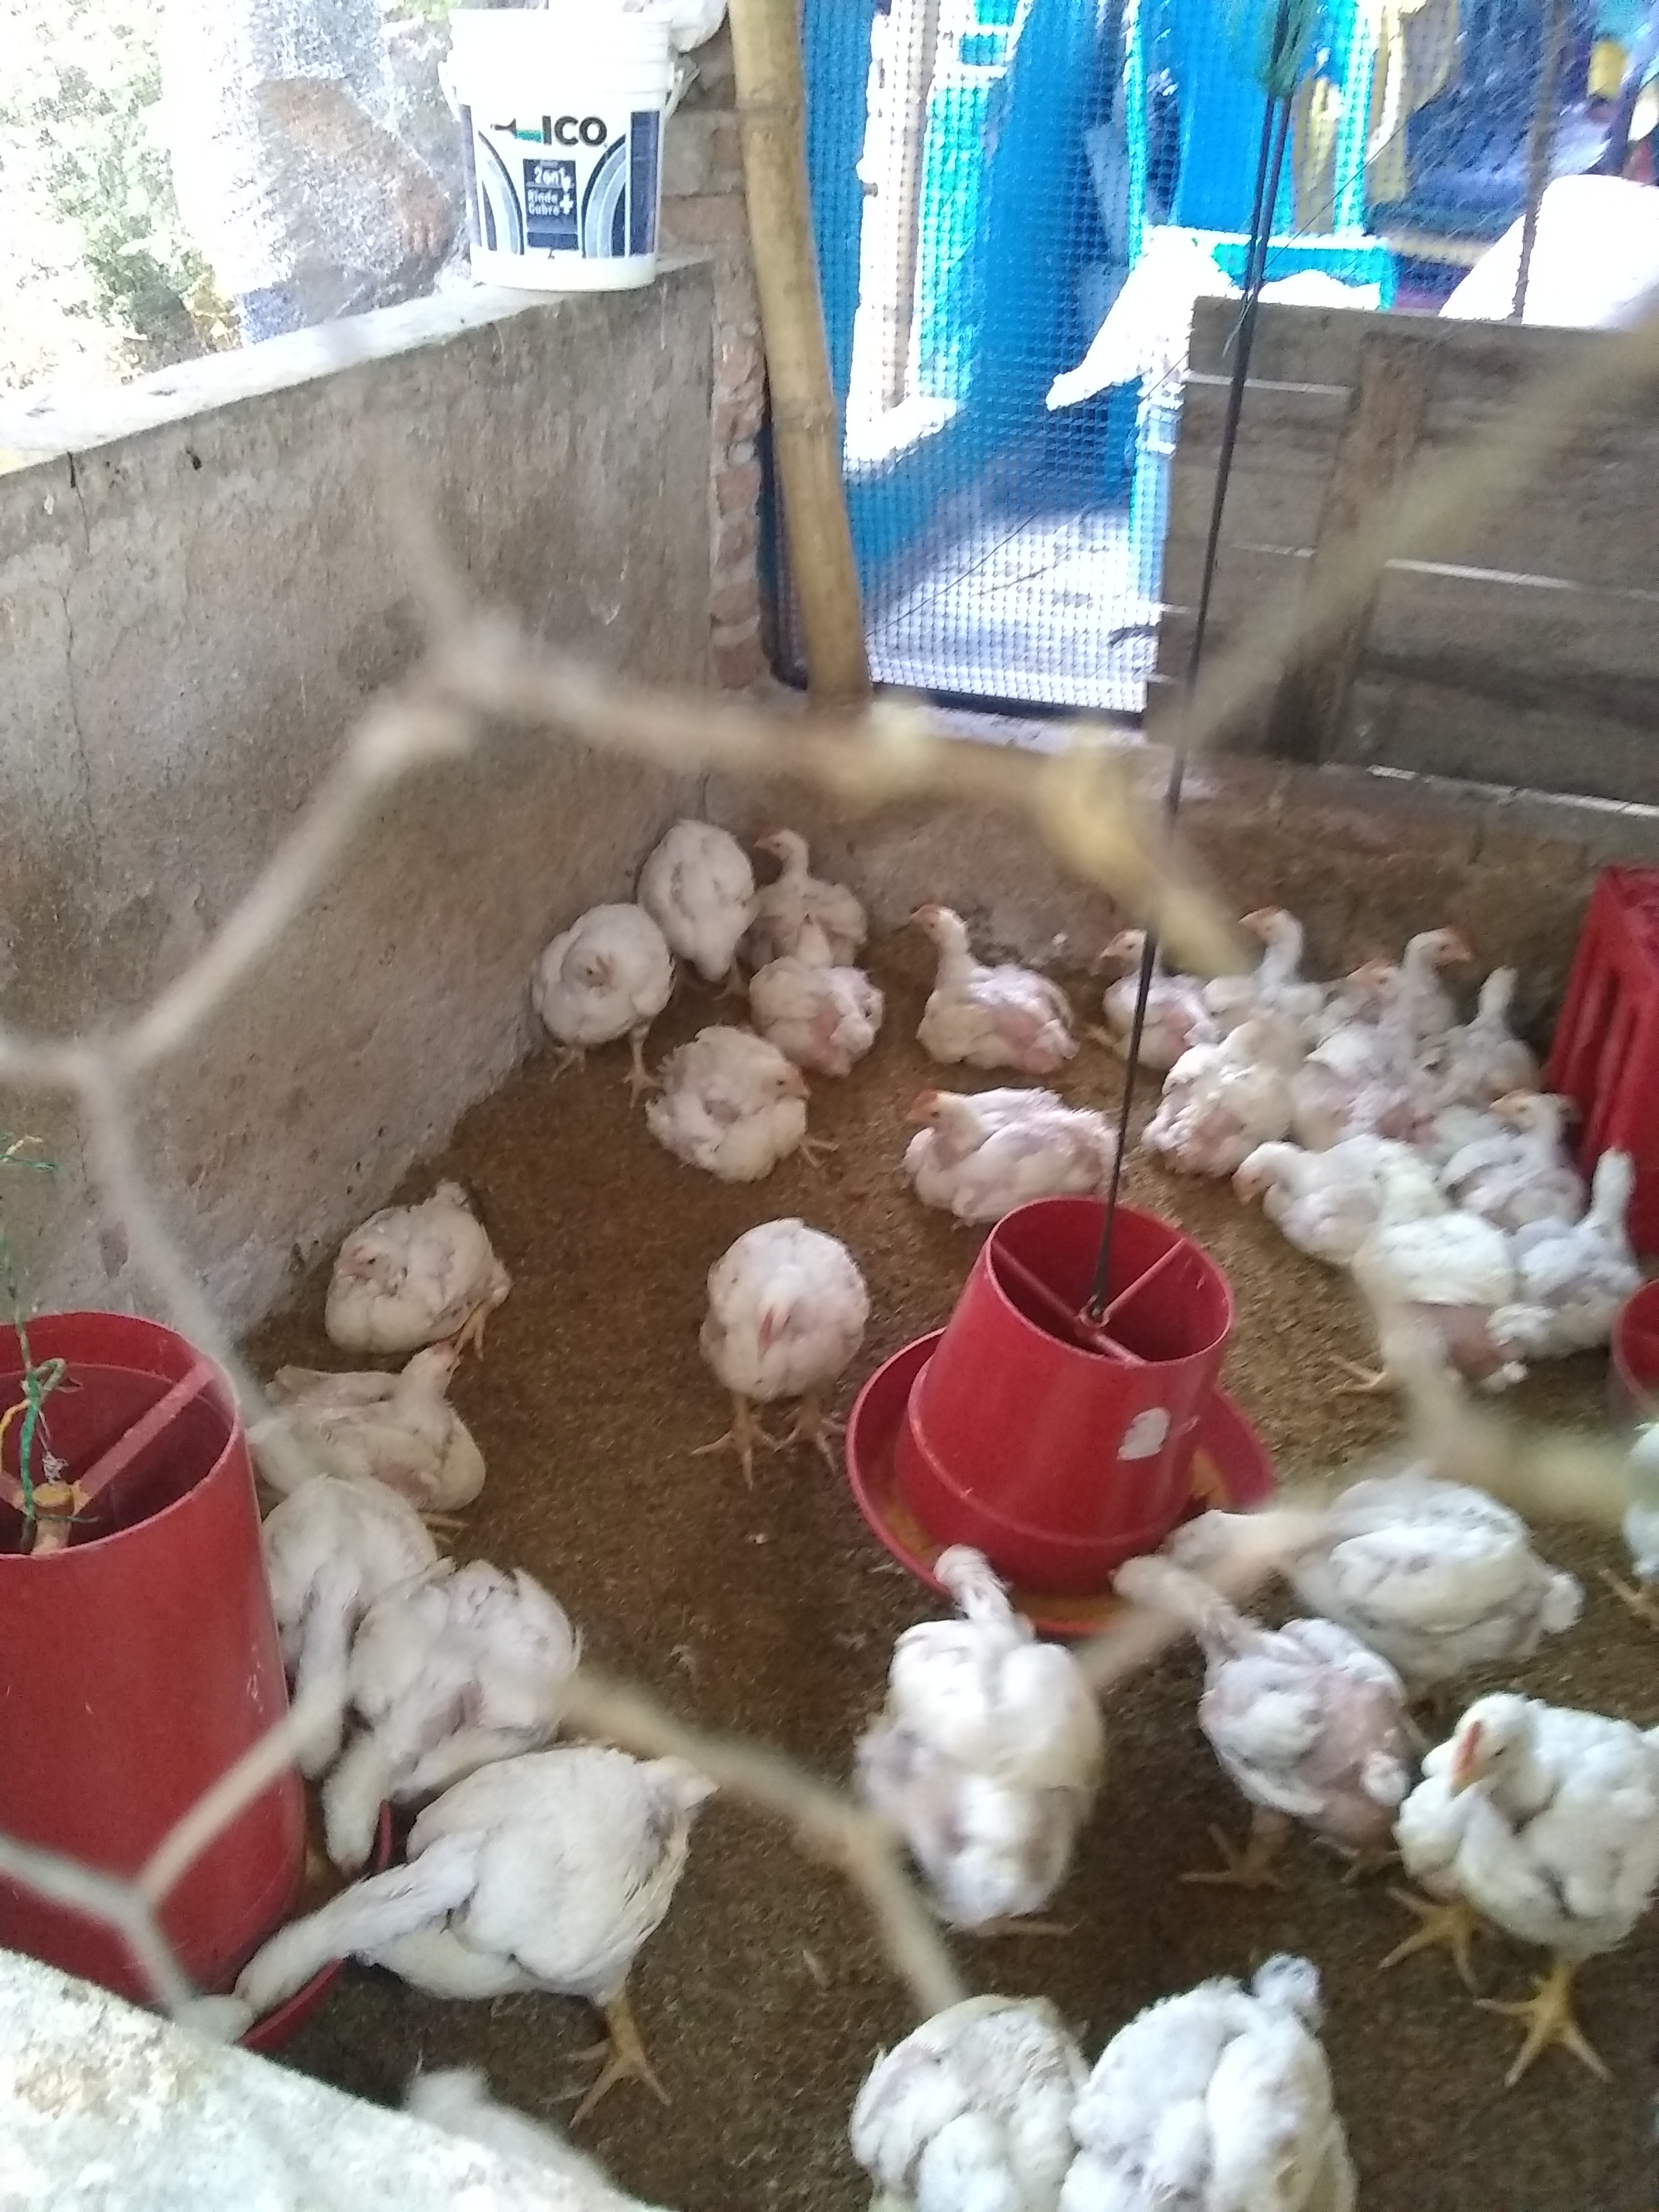Pollos: (232, 1714, 714, 2029), (1349, 1660, 1659, 2087), (1103, 1503, 1398, 1897), (842, 1538, 1101, 1949), (1169, 1451, 1572, 1669), (305, 1552, 580, 1858), (1080, 1951, 1370, 2212), (836, 1984, 1073, 2212), (234, 1339, 502, 1522), (671, 1212, 863, 1467), (1333, 1162, 1521, 1400), (889, 1083, 1143, 1233), (303, 1163, 502, 1350), (512, 892, 669, 1099), (906, 874, 1073, 1066), (645, 1022, 828, 1193), (1532, 1139, 1652, 1362), (272, 1463, 436, 1616), (751, 913, 892, 1087), (1168, 998, 1290, 1170), (636, 794, 744, 982), (1220, 1118, 1361, 1252), (1438, 944, 1560, 1096), (739, 815, 875, 949), (1098, 906, 1202, 1066), (1209, 874, 1321, 1021), (1600, 1395, 1659, 1620), (1335, 942, 1415, 1073), (1485, 1085, 1615, 1155), (1405, 909, 1480, 972), (1387, 1090, 1462, 1151)
